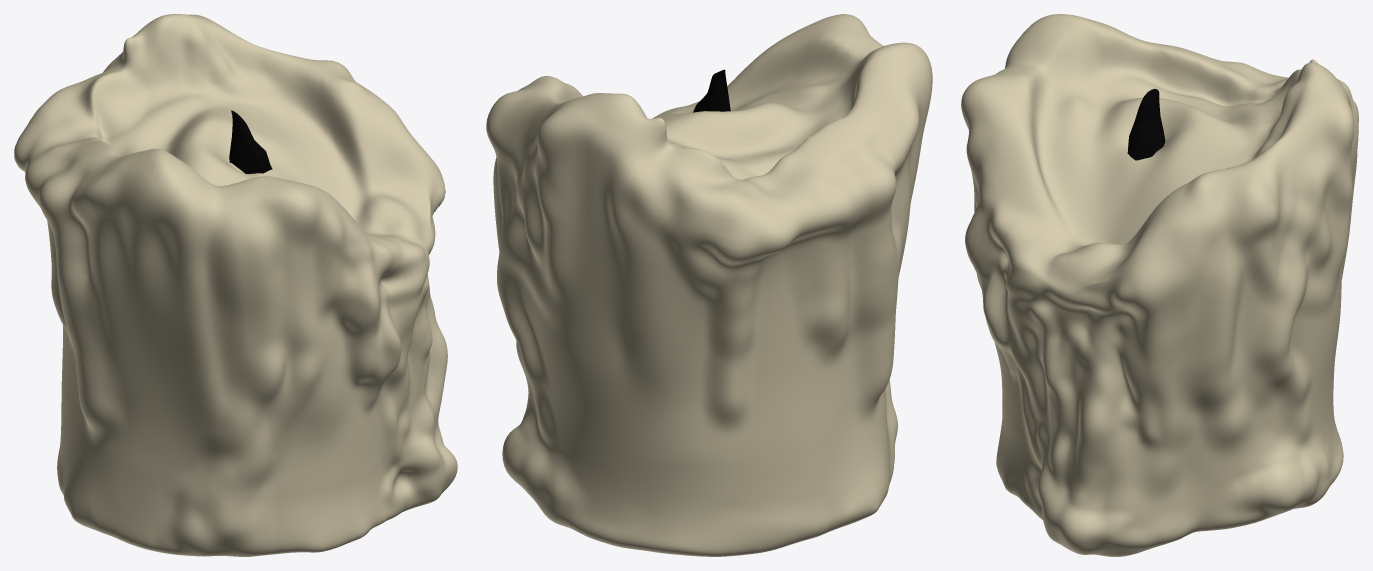
File: Candle 1.fbx
The picture shows the model from 3 angles, left to right: view 1: azimuth 30°, elevation 25°; view 2: azimuth 150°, elevation 25°; view 3: azimuth 270°, elevation 25°; orthographic projection. The views are drawn at different scales.
Visible parts, largest first — view 1: Cylinder, Cylinder.001; view 2: Cylinder, Cylinder.001; view 3: Cylinder, Cylinder.001.
Boxes of the visible parts, box(x1,y1,x2,y2) form: Cylinder: box(14, 14, 457, 556); Cylinder.001: box(229, 110, 272, 173); Cylinder: box(486, 14, 932, 556); Cylinder.001: box(693, 69, 730, 112); Cylinder: box(961, 14, 1358, 556); Cylinder.001: box(1127, 88, 1165, 160).
Size of the model in its own units: 256 by 281 by 239.
